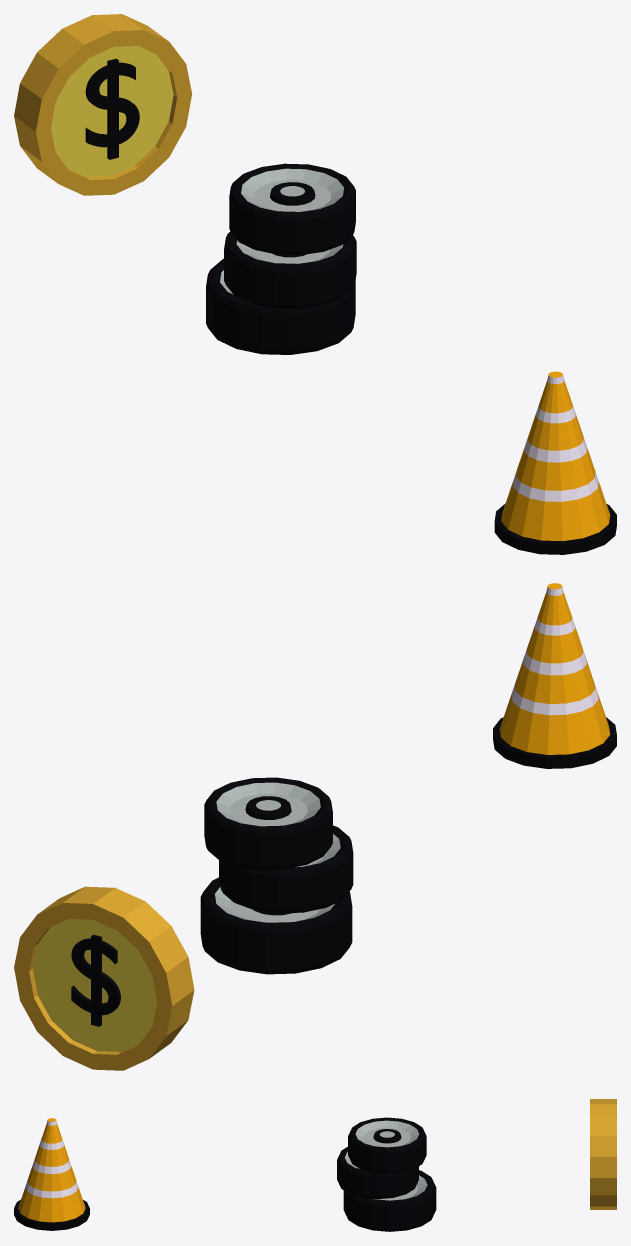
Rendered from Props.fbx.
The picture shows the model from 3 angles, top to bottom: view 1: azimuth 30°, elevation 25°; view 2: azimuth 150°, elevation 25°; view 3: azimuth 270°, elevation 25°; orthographic projection. The views are drawn at different scales.
Visible parts, largest first — view 1: TyreStack, Coin, Cone; view 2: TyreStack, Coin, Cone; view 3: TyreStack, Cone, Coin.
Boxes of the visible parts, <box> form: TyreStack: <box>206,163,356,354</box>; Coin: <box>14,14,191,195</box>; Cone: <box>494,371,616,554</box>; TyreStack: <box>200,777,353,974</box>; Coin: <box>14,886,194,1070</box>; Cone: <box>493,583,616,768</box>; TyreStack: <box>337,1117,436,1231</box>; Cone: <box>14,1118,89,1230</box>; Coin: <box>590,1099,616,1209</box>.
Size of the model in its own units: 1.54 by 1.67 by 8.35.
